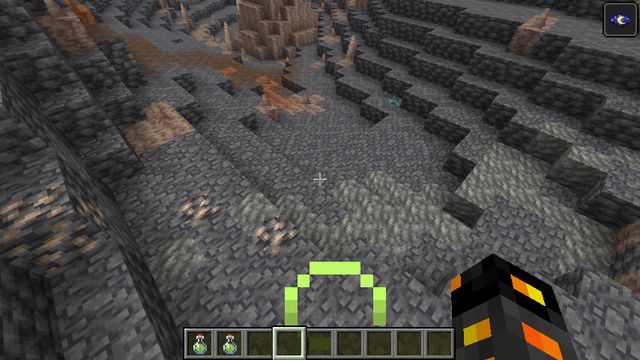diamond: (388, 93, 403, 109)
iron: (2, 183, 110, 279), (253, 212, 300, 259), (176, 191, 220, 228)
